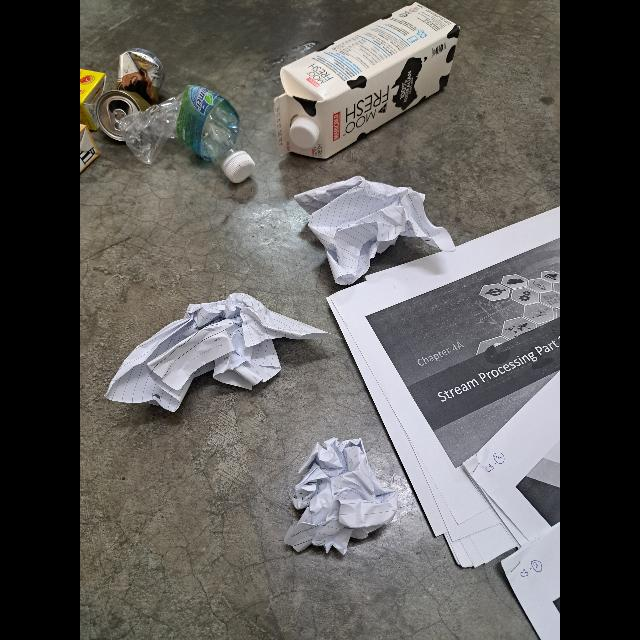aba de lata: (112, 108, 128, 134)
caixinha: (276, 2, 460, 158), (80, 68, 108, 130), (80, 124, 100, 176)
garrafa plástica: (124, 84, 254, 184)
lata: (97, 48, 163, 142)
papel: (326, 208, 560, 640), (106, 292, 330, 414), (294, 176, 456, 286), (282, 437, 398, 555)
tampa plástica: (283, 116, 319, 154), (224, 150, 252, 186)
